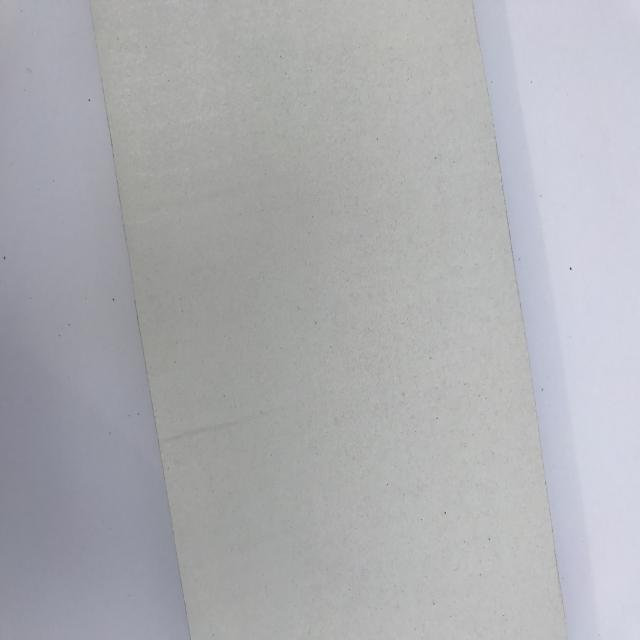cardboard: (88, 1, 569, 638)
